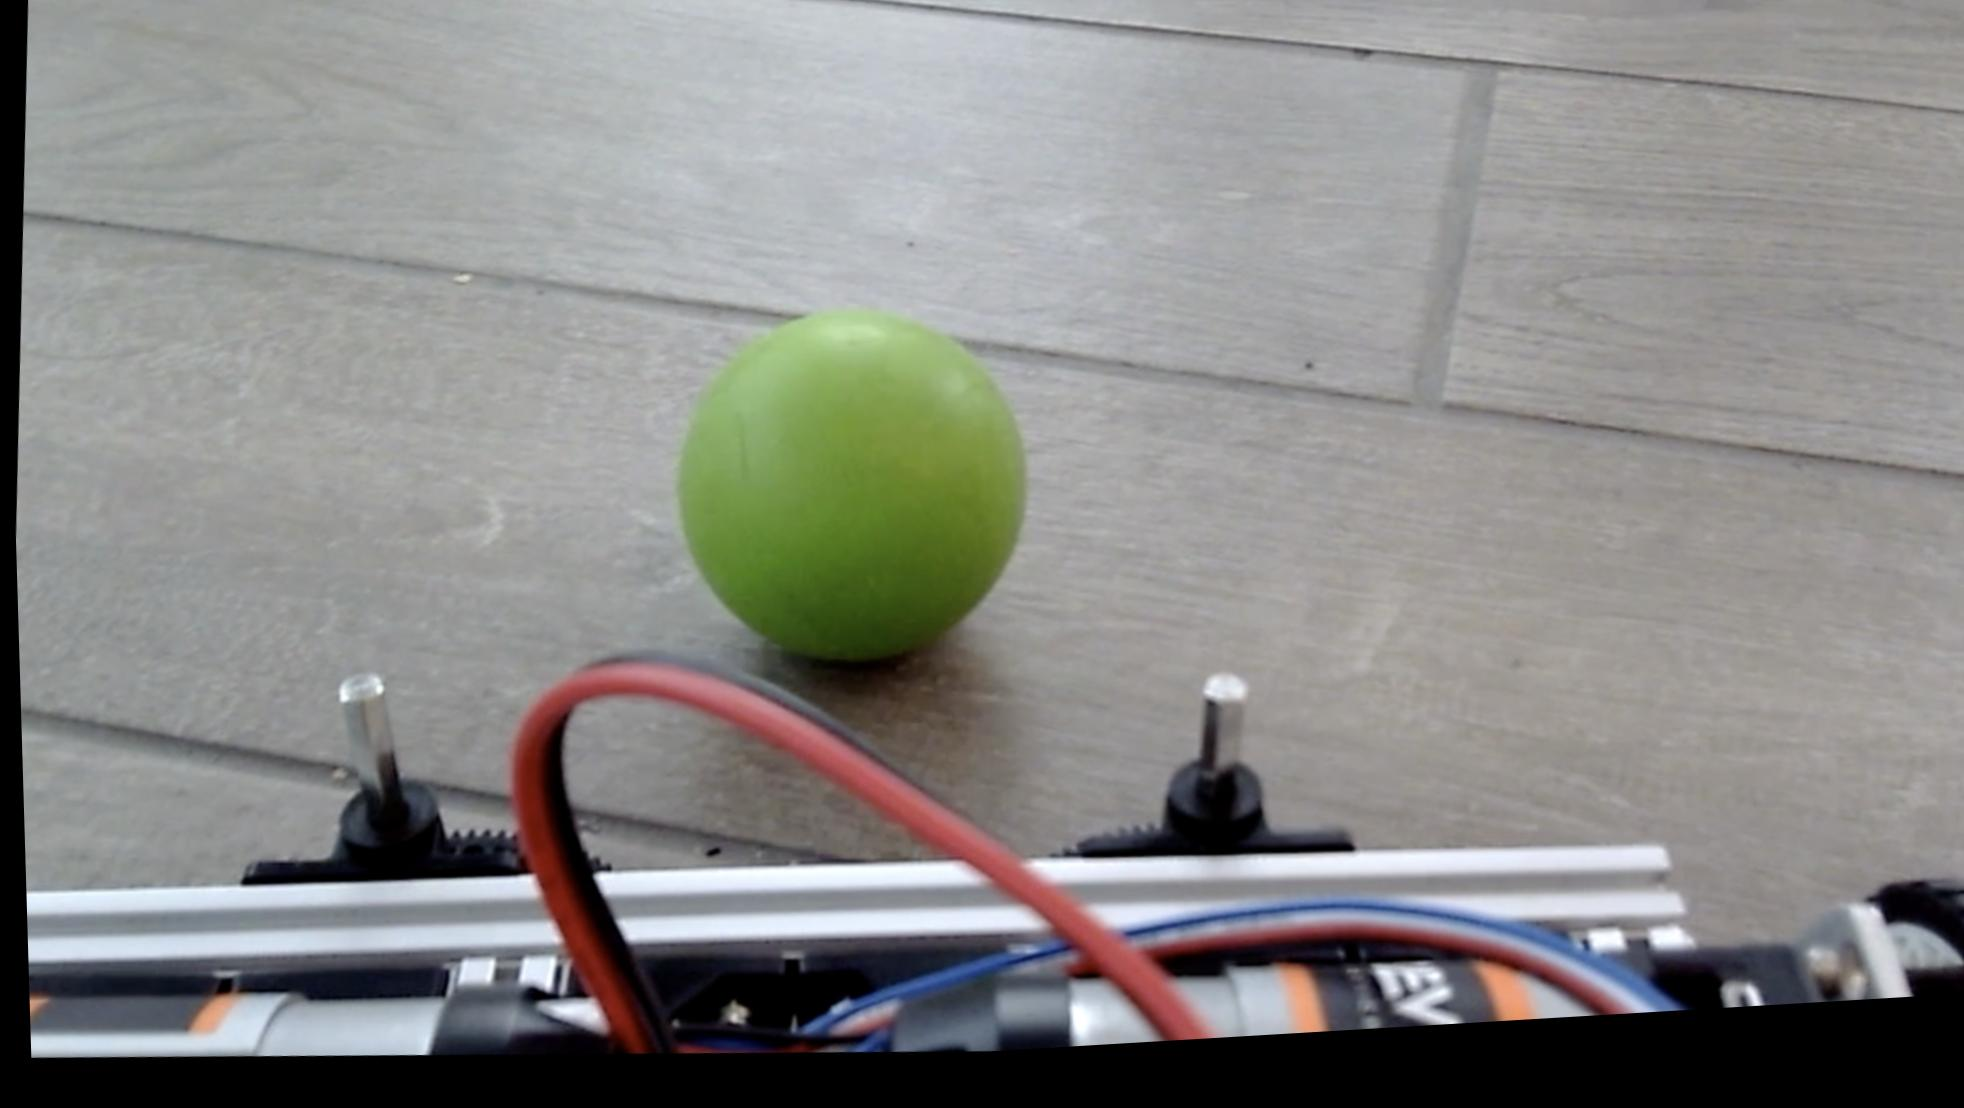greenball: (656, 296, 1040, 694)
